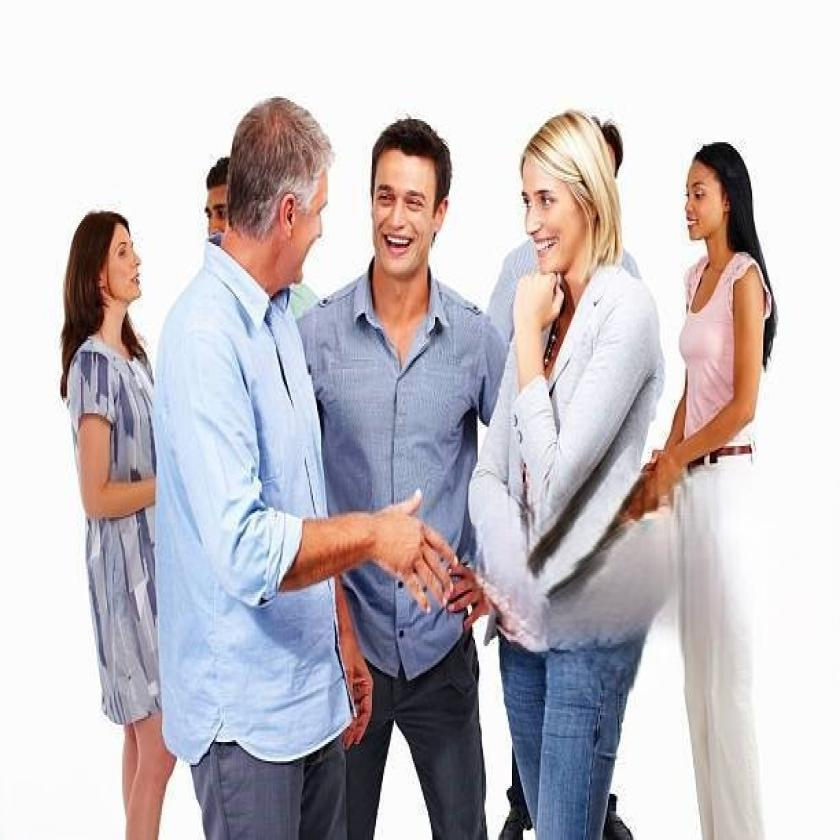Sin_casco: (226, 77, 340, 290), (511, 109, 642, 283), (357, 119, 464, 273), (68, 182, 144, 322), (685, 144, 760, 253)
